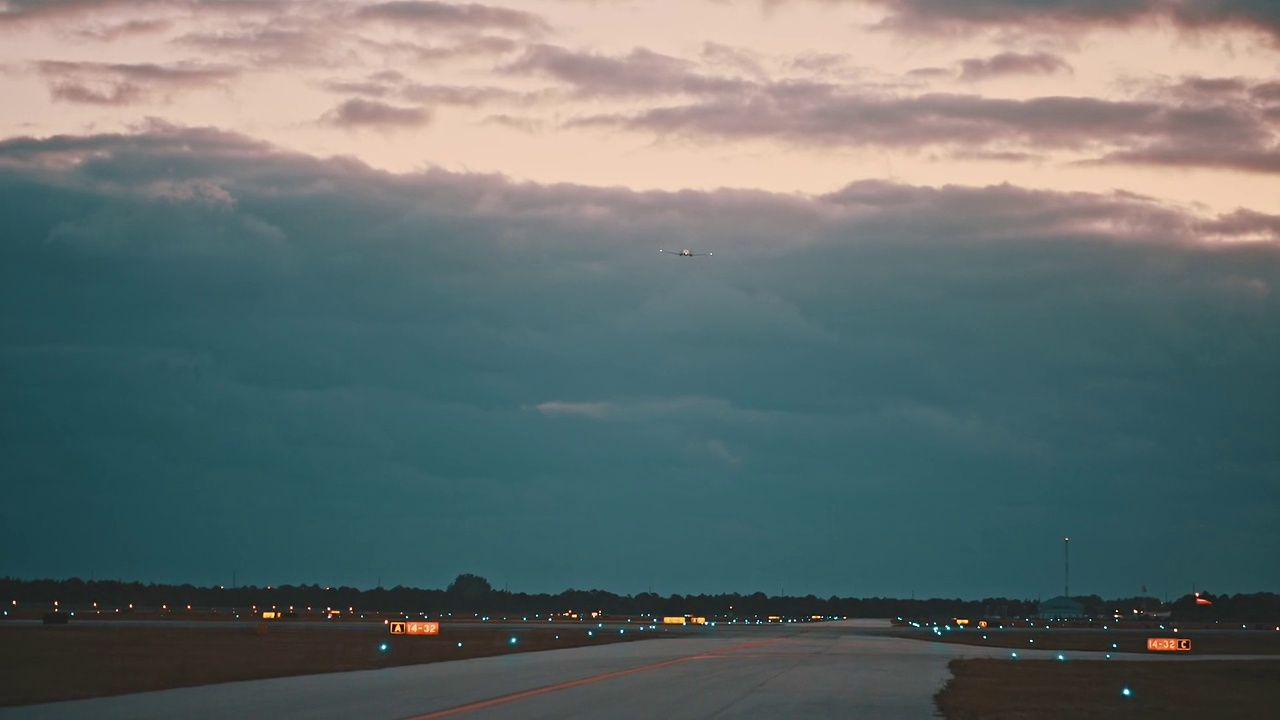plane: (658, 246, 712, 257)
